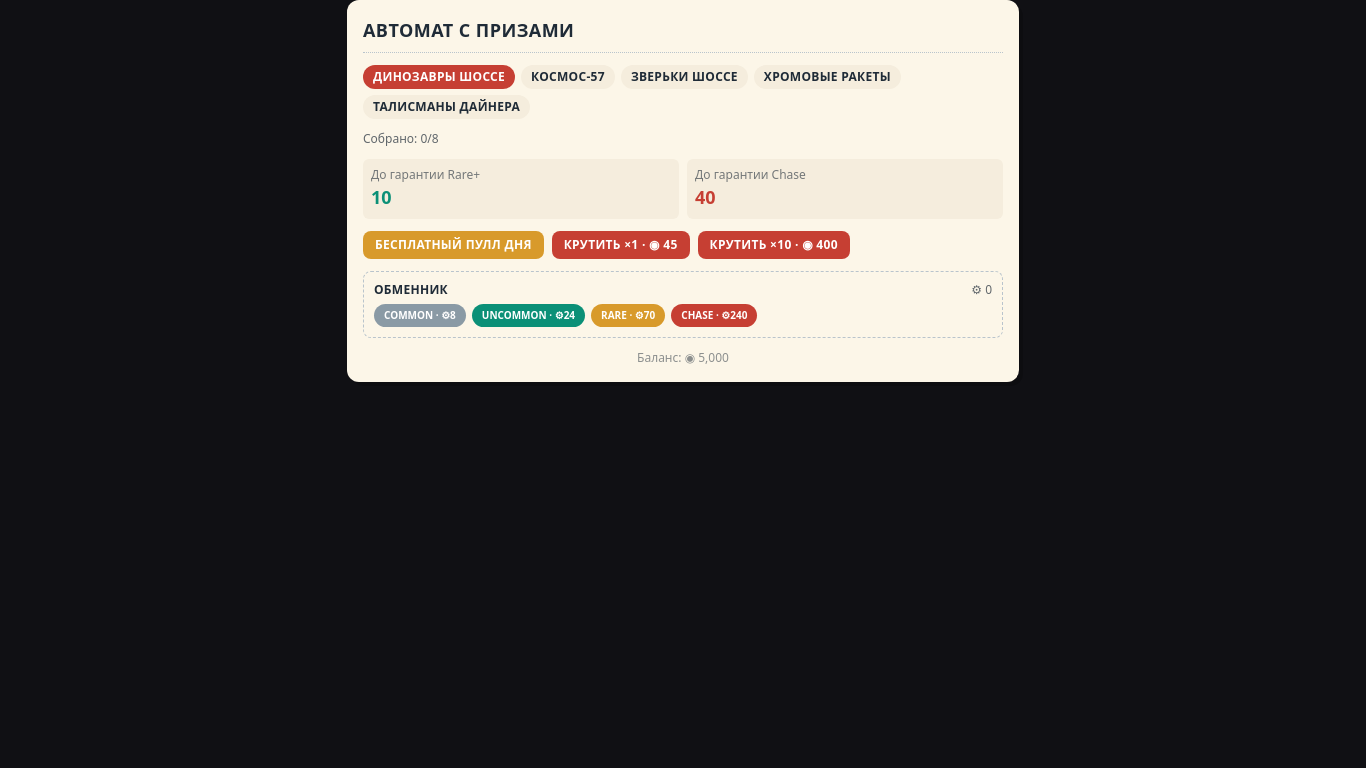
PrizeMachine (§3.3) › FAIL в dev-диалоге не вызывает pullPrize
Click the button with test id "prize-pull-10": [774, 245] box [698,231,850,259]
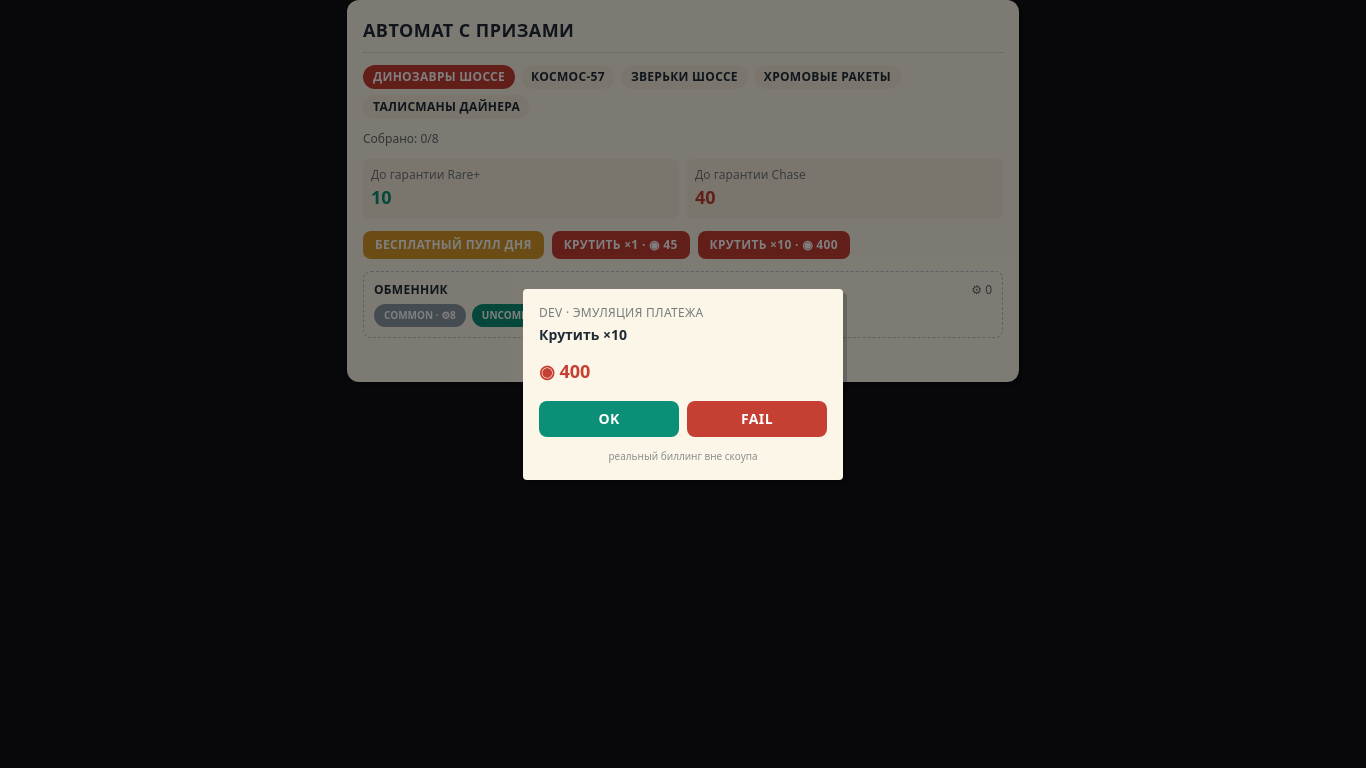
Click the button with test id "dev-payment-fail": [757, 418] box [687,400,827,436]
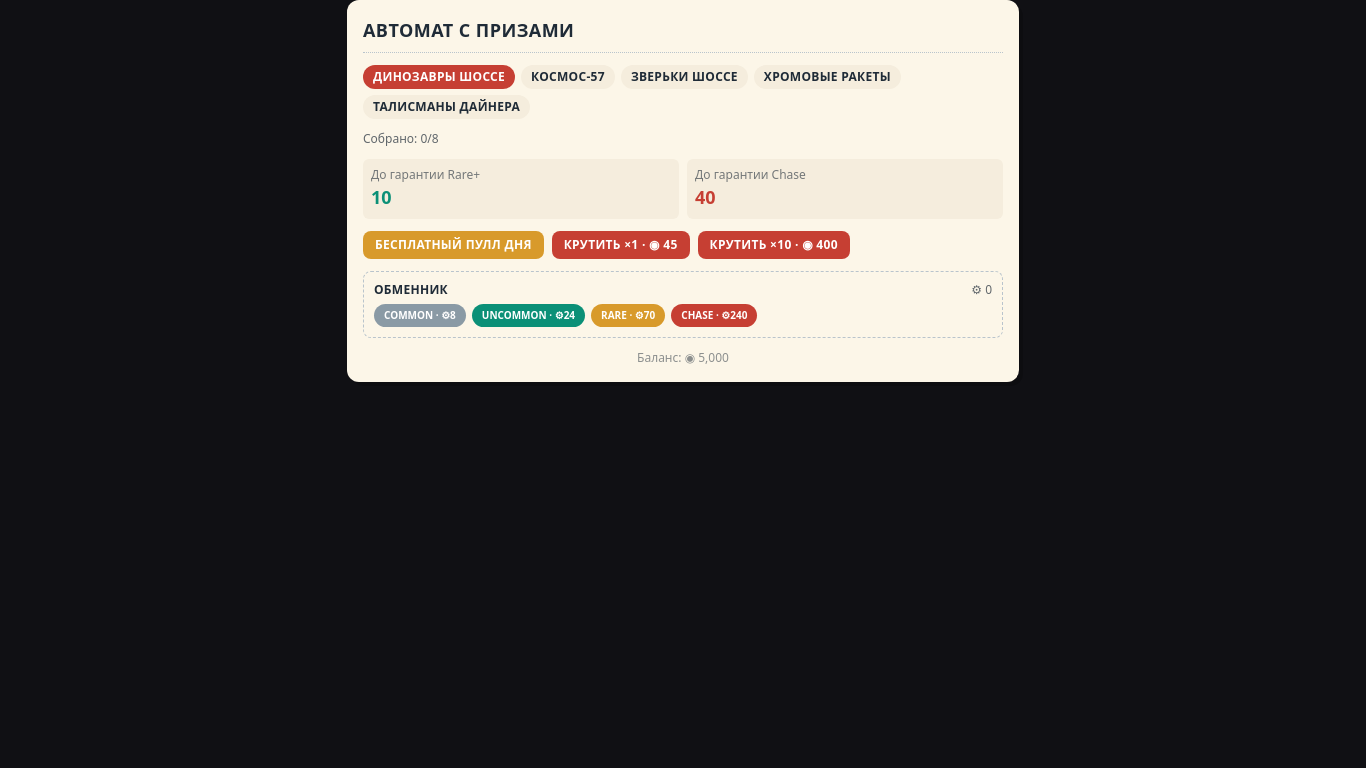
Check: the element with test id "dev-payment-dialog" is gone
